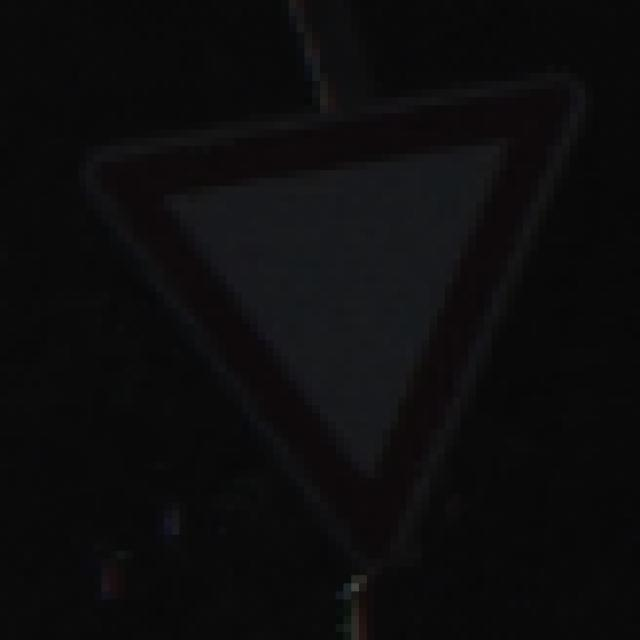Give Way: (64, 58, 587, 584)
